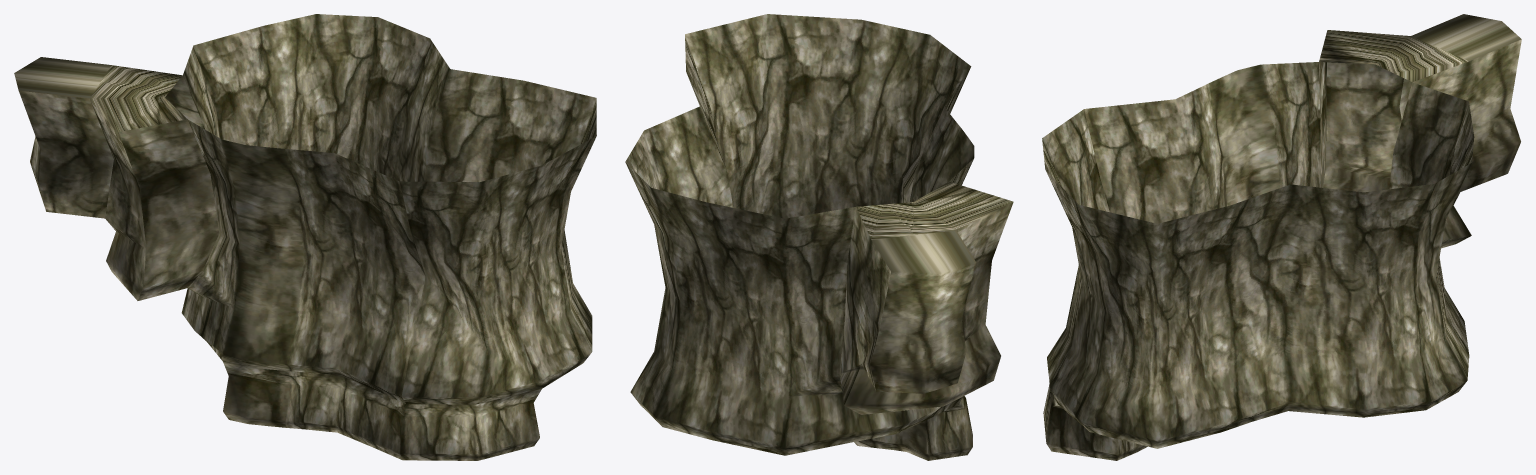
The model's file is CB_NEWPLAYSURFACE_CB_PLAYSURFACE52.fbx.
3 renders of one model, left to right at view 1: azimuth 30°, elevation 25°; view 2: azimuth 150°, elevation 25°; view 3: azimuth 270°, elevation 25°, orthographic. The views are drawn at different scales.
Parts seen in each view (by area): view 1: CB_NEWPLAYSURFACE_CB_PLAYSURFACE52; view 2: CB_NEWPLAYSURFACE_CB_PLAYSURFACE52; view 3: CB_NEWPLAYSURFACE_CB_PLAYSURFACE52.
Part boxes in pixels (left/top/right/bottom): CB_NEWPLAYSURFACE_CB_PLAYSURFACE52: left=14, top=14, right=596, bottom=460; CB_NEWPLAYSURFACE_CB_PLAYSURFACE52: left=625, top=14, right=1013, bottom=460; CB_NEWPLAYSURFACE_CB_PLAYSURFACE52: left=1042, top=14, right=1521, bottom=460.
Size of the model in its own units: 133312 by 84294 by 128892.
Materials: 2 (2 with a texture image).
